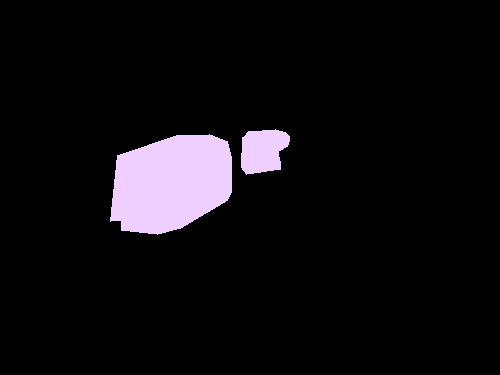Train: (110, 134, 231, 235), (241, 129, 290, 174)
